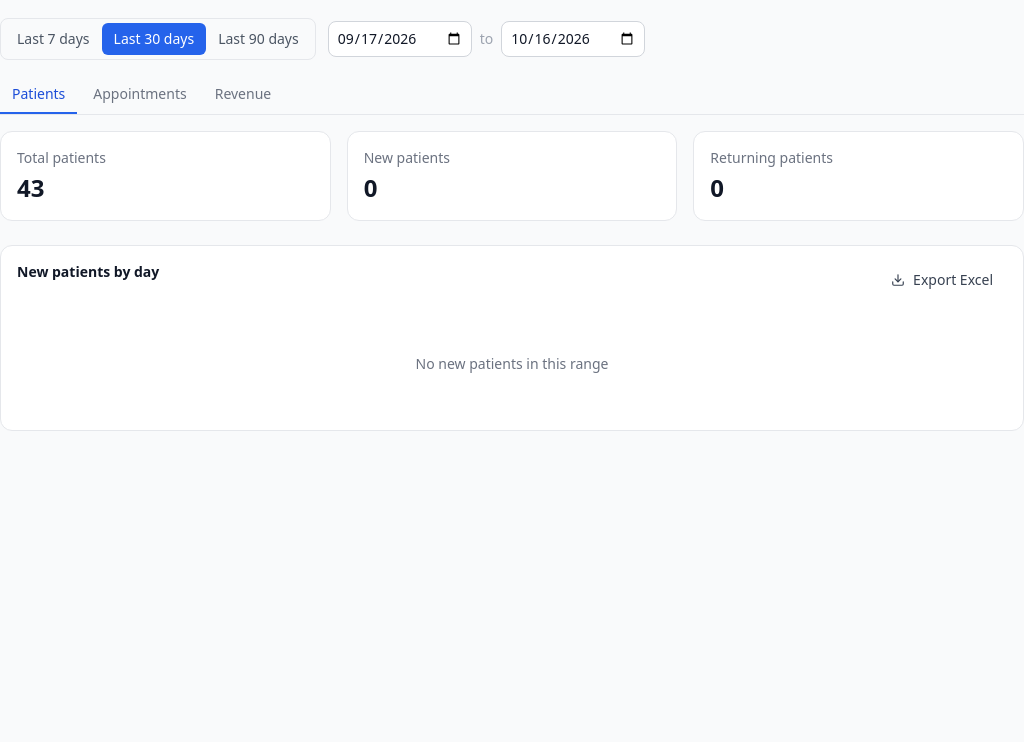
Reports › shows a method that refunds took below zero as a minus amount with no bar
This screenshot has width=1024, height=742.
What coordinates should you click on to do the following:
click the tab "Revenue"
I would click on:
 (243, 95)
Its box is top-left (203, 76), bottom-right (283, 114).
(page scrolled)
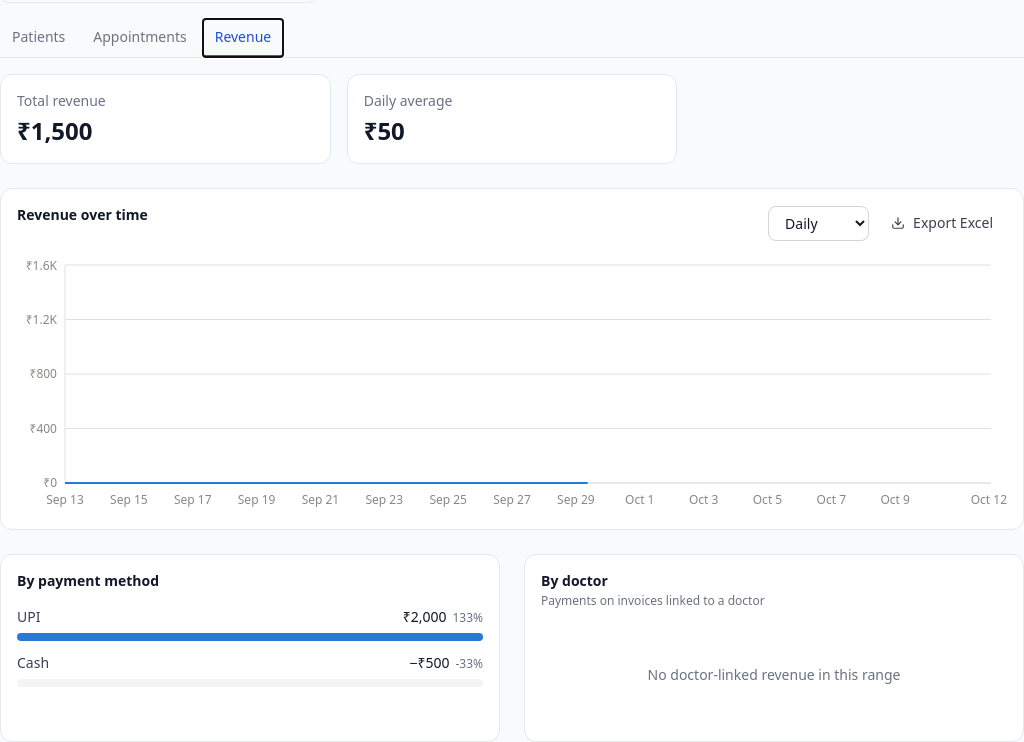
Now the heading "By payment method" is shown, box top-left (17, 571), bottom-right (159, 591)
Now the list item "Cash" shows "−₹500", box top-left (409, 653), bottom-right (449, 672)
